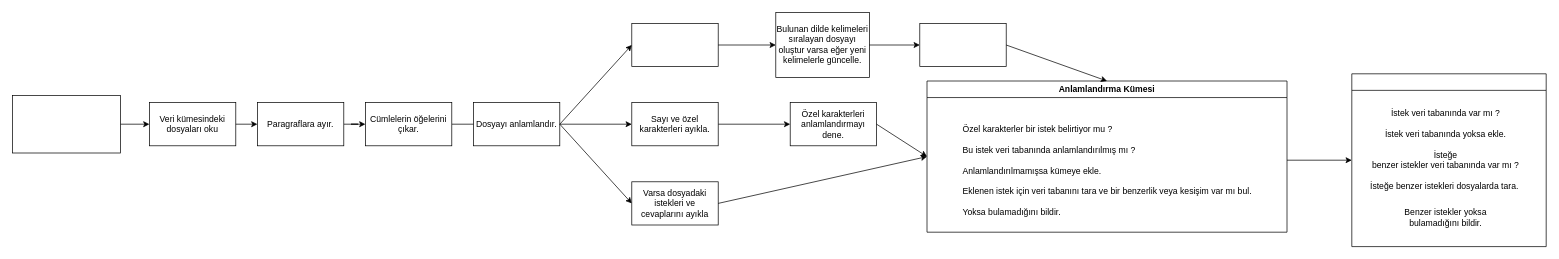
Some shapes in this 1559 by 259 pixel diagram are drawn without their labels. Each missing label, with the box of its shape:
Dosyanın dilini bul: (631, 23, 718, 67)
Doğal Dil İşleme'yi çalıştır: (12, 95, 121, 153)
İstek İşlem Kümesi: (1351, 73, 1546, 247)
Kelimelerden istek belirtenleri ayıkla.: (919, 23, 1006, 67)
